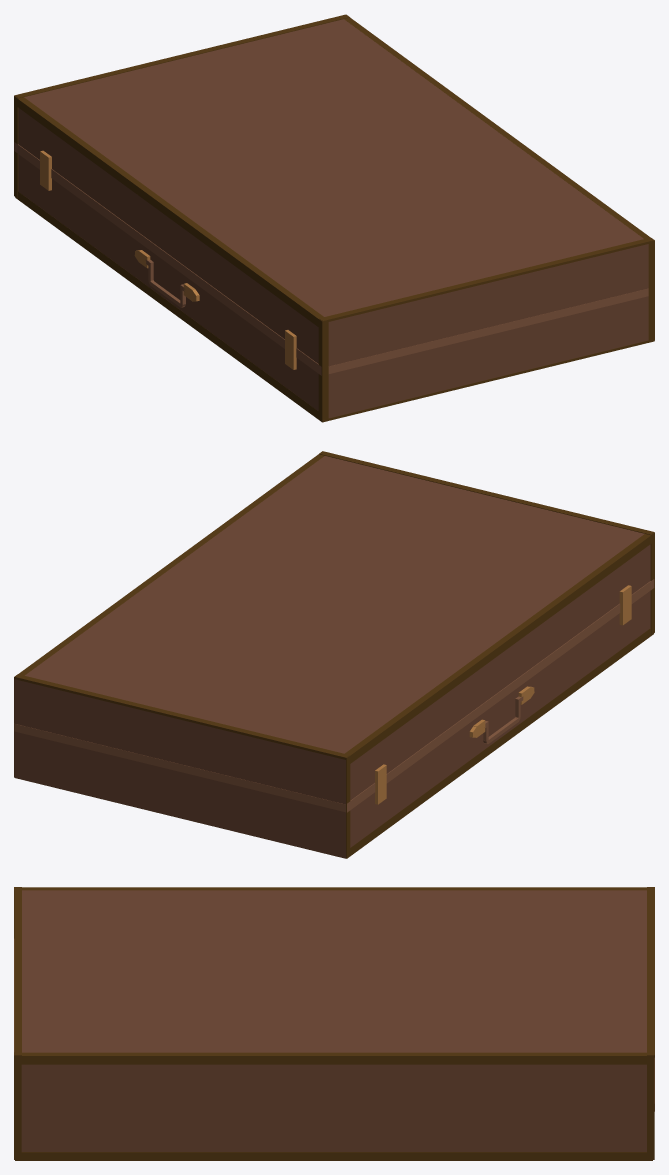
File: Luggage1.fbx
3 renders of one model, top to bottom at view 1: azimuth 30°, elevation 25°; view 2: azimuth 150°, elevation 25°; view 3: azimuth 270°, elevation 25°, orthographic. The views are drawn at different scales.
Parts seen in each view (by area): view 1: Cube, Cube.035, Cube.001, Cube.036, Cube.003, Cube.032, Cube.033, Cube.025, Cube.031, Cube.030, Cube.029; view 2: Cube, Cube.035, Cube.001, Cube.002, Cube.036, Cube.025, Cube.033, Cube.032; view 3: Cube, Cube.033, Cube.034, Cube.035, Cube.025, Cube.032, Cube.029, Cube.028.
Boxes of the visible parts, x1,y1,x2,y2 form: Cube: (18,19,648,418); Cube.035: (14,97,323,329); Cube.001: (14,142,321,375); Cube.036: (15,191,322,422); Cube.003: (328,288,648,373); Cube.032: (319,237,654,321); Cube.033: (344,17,650,238); Cube.025: (14,14,349,98); Cube.031: (322,339,654,422); Cube.030: (318,319,328,421); Cube.029: (648,238,654,340); Cube: (14,456,650,858); Cube.035: (345,533,654,765); Cube.001: (347,579,654,812); Cube.002: (14,723,345,812); Cube.036: (346,628,653,858); Cube.025: (14,674,349,759); Cube.033: (18,454,324,675); Cube.032: (319,451,653,534); Cube: (14,890,654,1159); Cube.033: (15,1052,652,1064); Cube.034: (15,1152,652,1160); Cube.035: (22,887,646,890); Cube.025: (647,887,654,1057); Cube.032: (14,887,21,1055); Cube.029: (14,1052,21,1159); Cube.028: (647,1055,654,1159).
Size of the model in its own units: 168 by 48.64 by 267.
